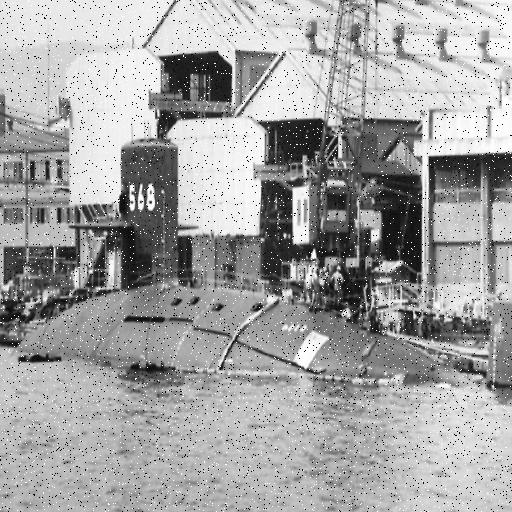submarine: (14, 137, 512, 389)
